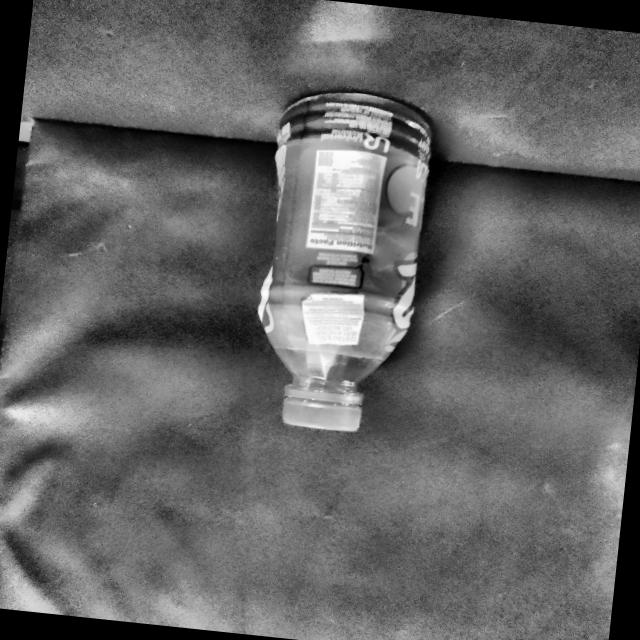Plastic-Bottle: (242, 79, 440, 441)
